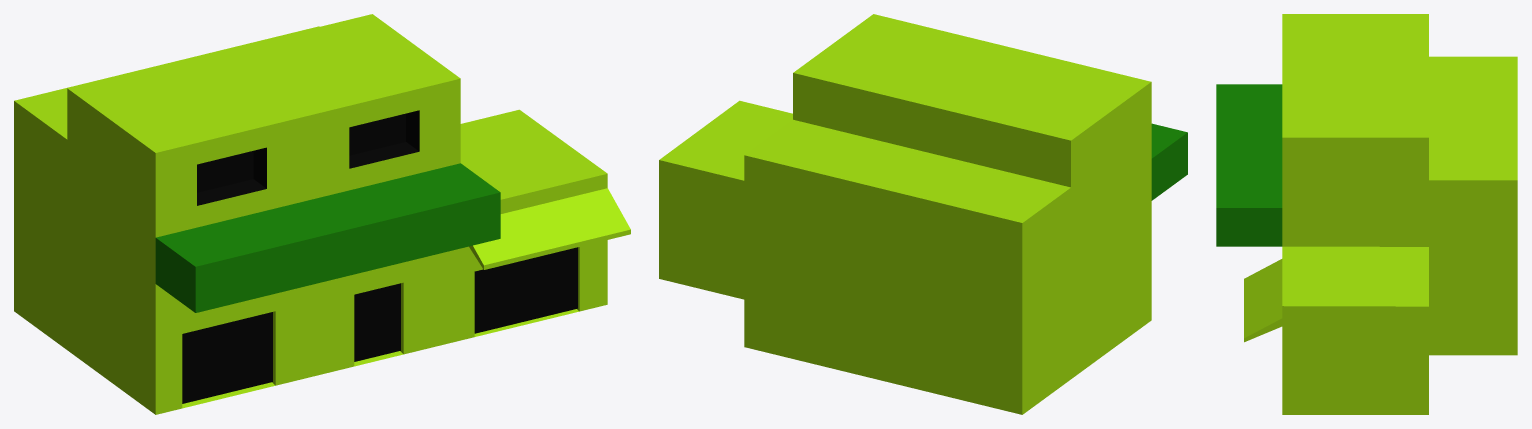
Rendered from loja_2.fbx.
3 renders of one model, left to right at view 1: azimuth 30°, elevation 25°; view 2: azimuth 150°, elevation 25°; view 3: azimuth 270°, elevation 25°, orthographic. The views are drawn at different scales.
Visible parts, largest first — view 1: Cube; view 2: Cube; view 3: Cube.
Part boxes in pixels (x1,y1,x2,y2): Cube: (14, 14, 630, 414); Cube: (659, 14, 1187, 414); Cube: (1216, 14, 1517, 414).
Size of the model in its own units: 2978 by 1649 by 2071.
